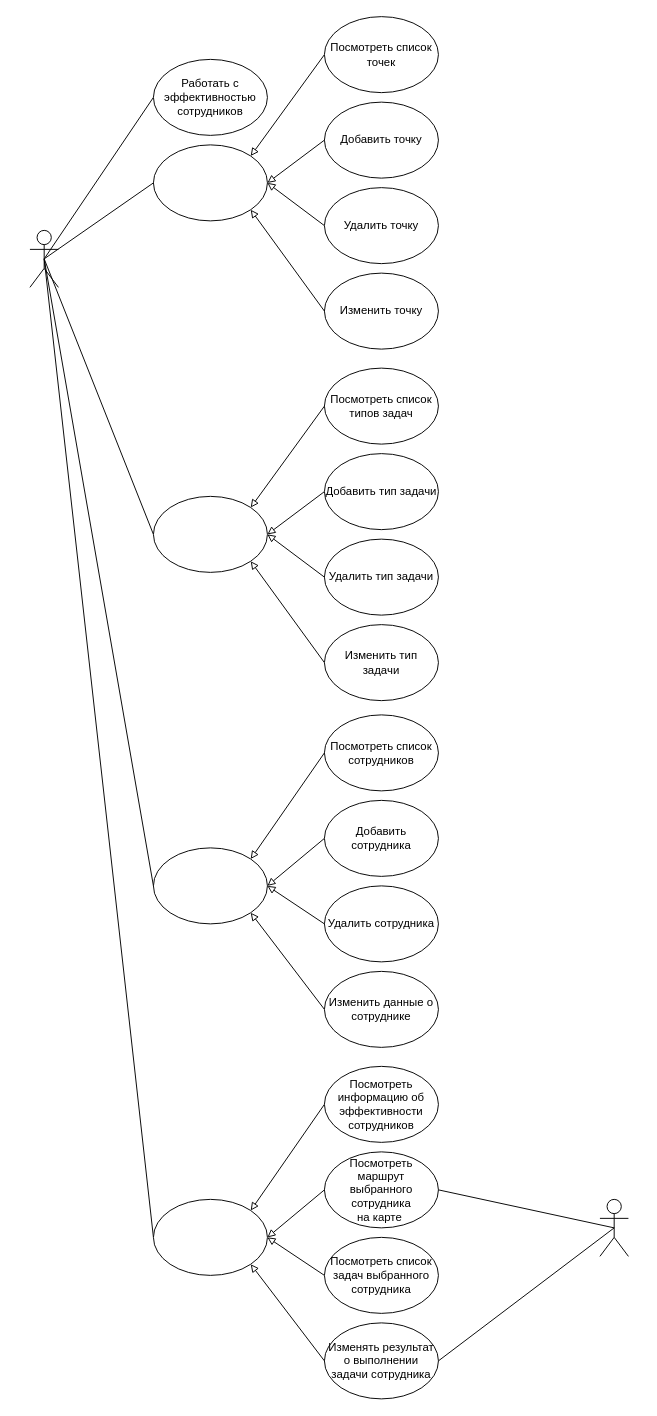
The diagram is 657 pixels wide and 1416 high, and some of its shapes have lost their labels. The box of each missing label's shape, as (x1, y1, x2, y2) in pixels:
Менеджер: (29, 229, 58, 287)
Работать с задачами: (152, 495, 267, 572)
Работать с прогрессом сотрудников: (152, 1198, 267, 1275)
Работать с сотрудниками: (152, 847, 267, 924)
Работать с точками: (152, 144, 267, 221)
Сотрудник: (599, 1198, 628, 1256)
